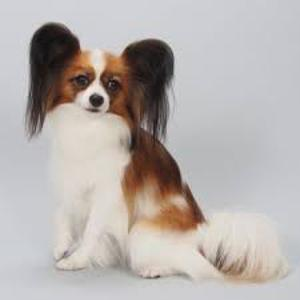yell: (24, 23, 290, 281)
